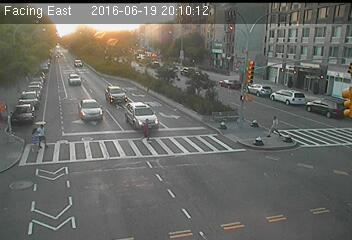neg: (196, 82, 226, 122), (170, 77, 194, 108), (69, 103, 88, 128), (100, 88, 112, 103)
pos: (265, 115, 284, 140), (138, 115, 155, 139)
